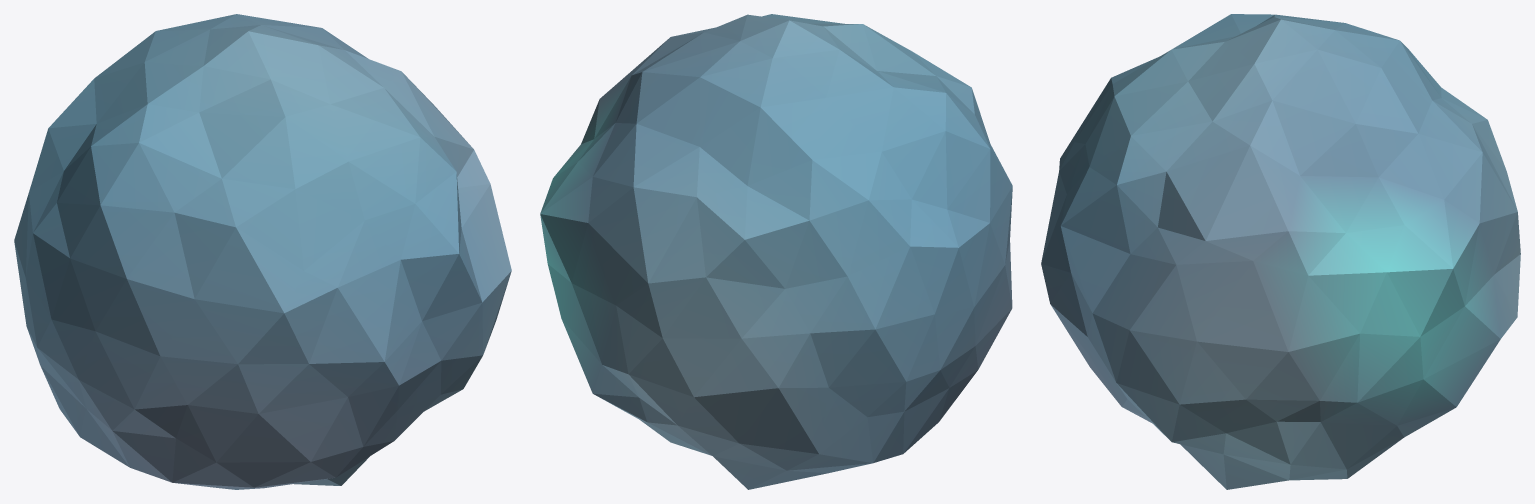
File: Generic_Planets_Planet_Generic_Ice.fbx
3 renders of one model, left to right at view 1: azimuth 30°, elevation 25°; view 2: azimuth 150°, elevation 25°; view 3: azimuth 270°, elevation 25°, orthographic. The views are drawn at different scales.
Visible parts, largest first — view 1: Planet_Generic_Ice; view 2: Planet_Generic_Ice; view 3: Planet_Generic_Ice.
Boxes of the visible parts, x1,y1,x2,y2 form: Planet_Generic_Ice: (14,14,511,489); Planet_Generic_Ice: (540,14,1012,489); Planet_Generic_Ice: (1041,14,1520,489).
Bounding box in the file's own units: 19.74 × 20.97 × 20.65.
